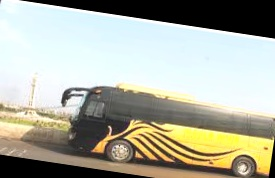bus: (54, 76, 275, 178)
